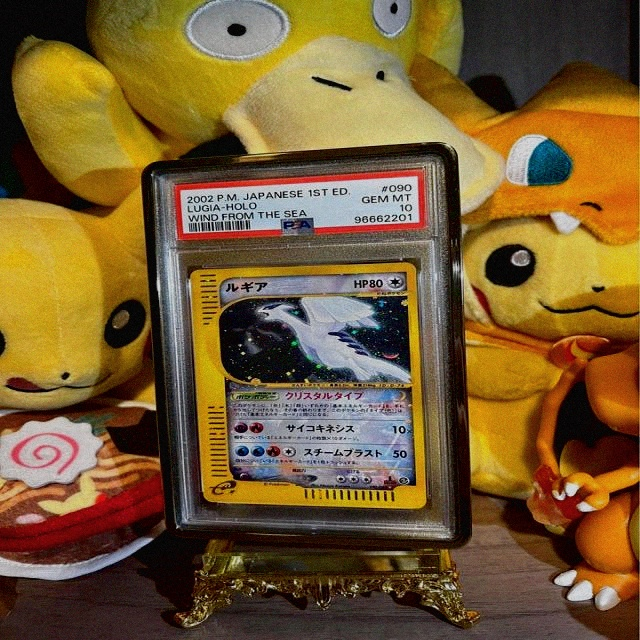card: (189, 262, 427, 509)
